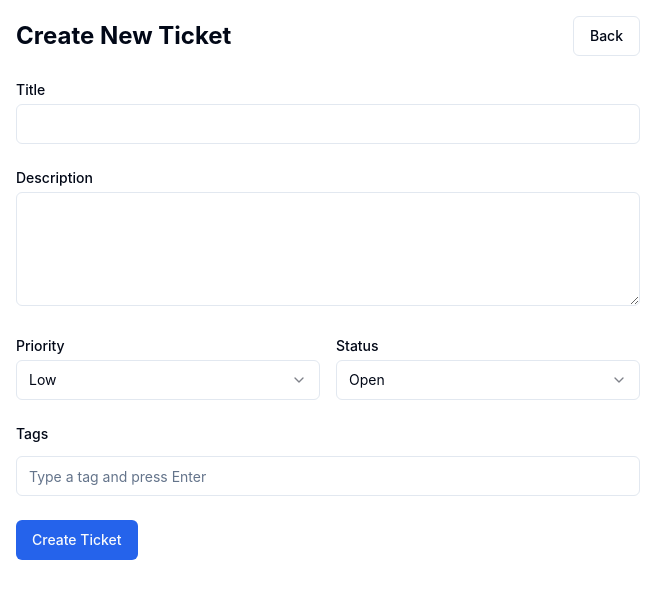
Test: CreateTicket › handles tag input correctly
# Add a tag
Type "bug" into the field with placeholder "Type a tag and press Enter".
click(328, 476); type("bug")  # box [16,456,640,496]
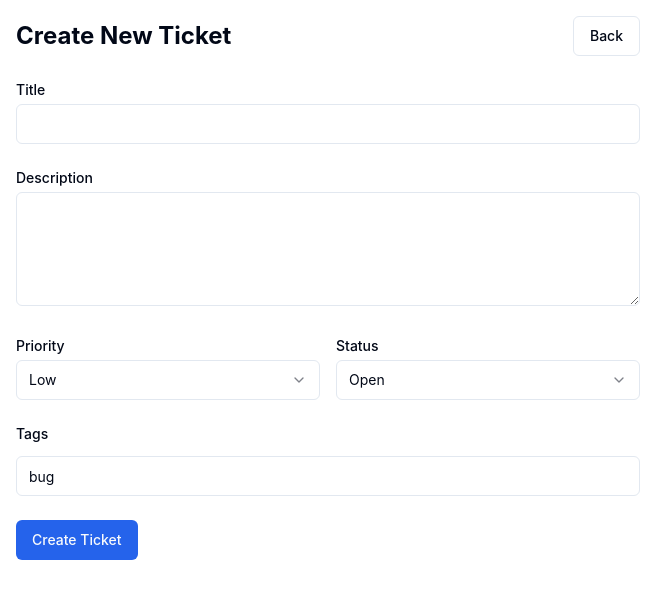
Press Enter in the field with placeholder "Type a tag and press Enter", box [16,456,640,496]
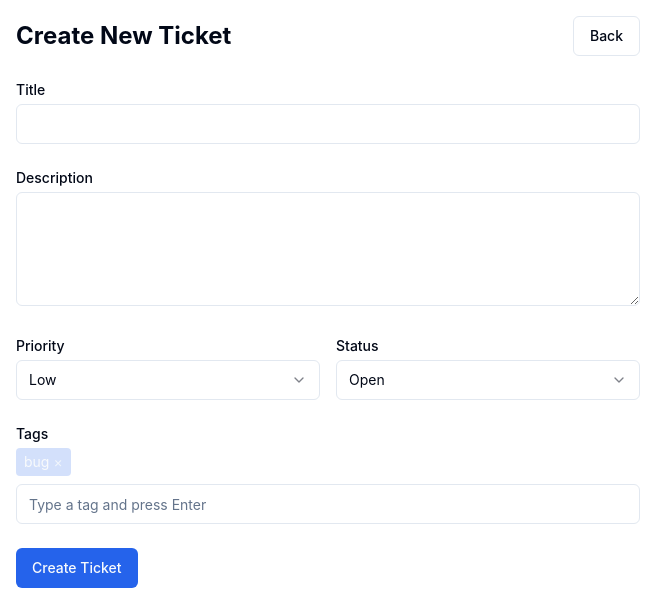
Expected: the text "bug" is shown, [24,453,49,470]
Expected: the field with placeholder "Type a tag and press Enter" is empty
# Add another tag
Type "urgent" into the field with placeholder "Type a tag and press Enter".
click(328, 504); type("urgent")  # box [16,484,640,524]
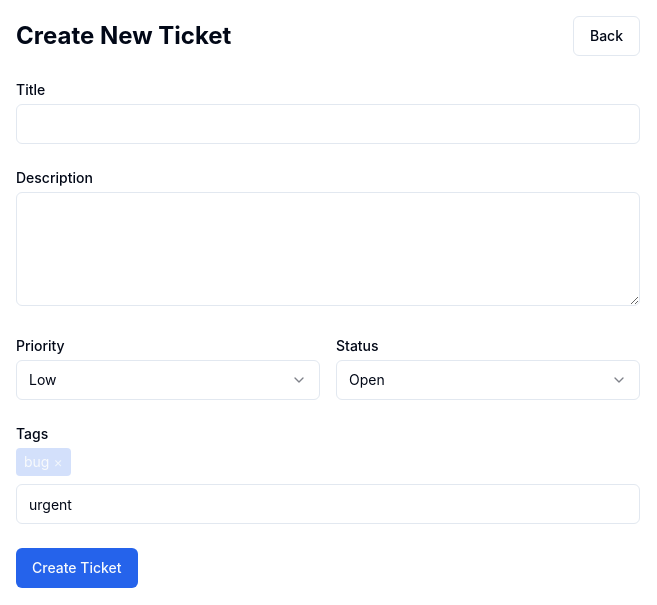
Press Enter in the field with placeholder "Type a tag and press Enter", box [16,484,640,524]
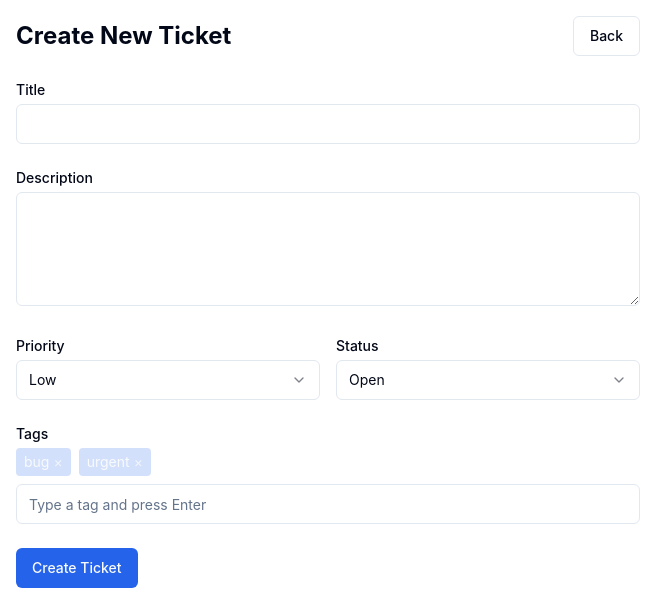
Expected: the text "bug" is shown, [24,453,49,470]
Expected: the text "urgent" is shown, [87,453,130,470]
# Remove a tag
Click the button "×" next to "bug".
click(58, 462)  # box [53,452,63,472]
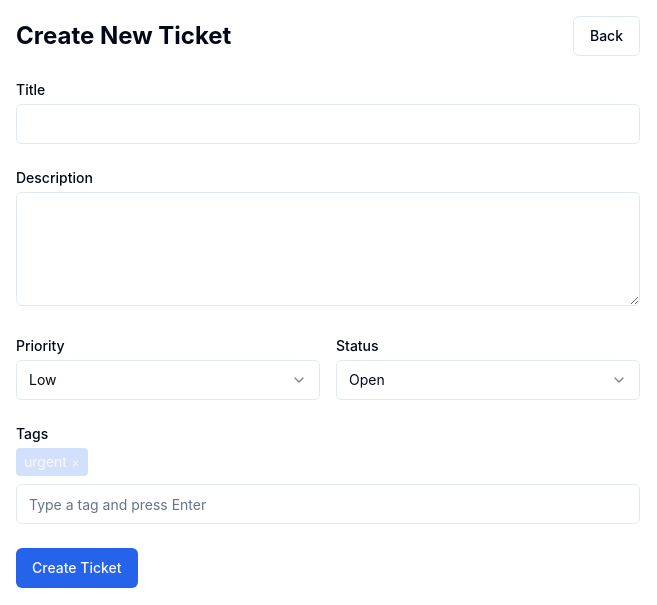
Expected: the text "urgent" is shown, [24,453,67,470]
Expected: the text "bug" is gone
